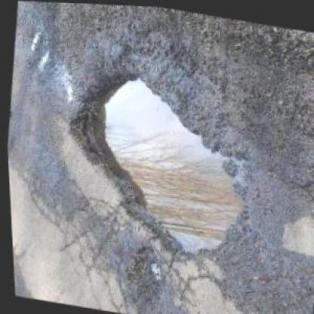Hueco: (49, 61, 264, 267), (114, 242, 167, 308)
